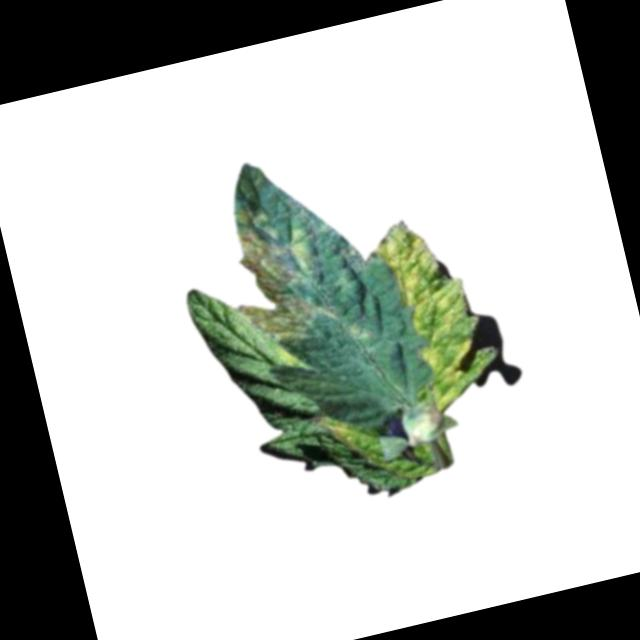Leaf_Mold: (368, 206, 512, 419), (204, 150, 345, 355), (315, 405, 358, 450)
